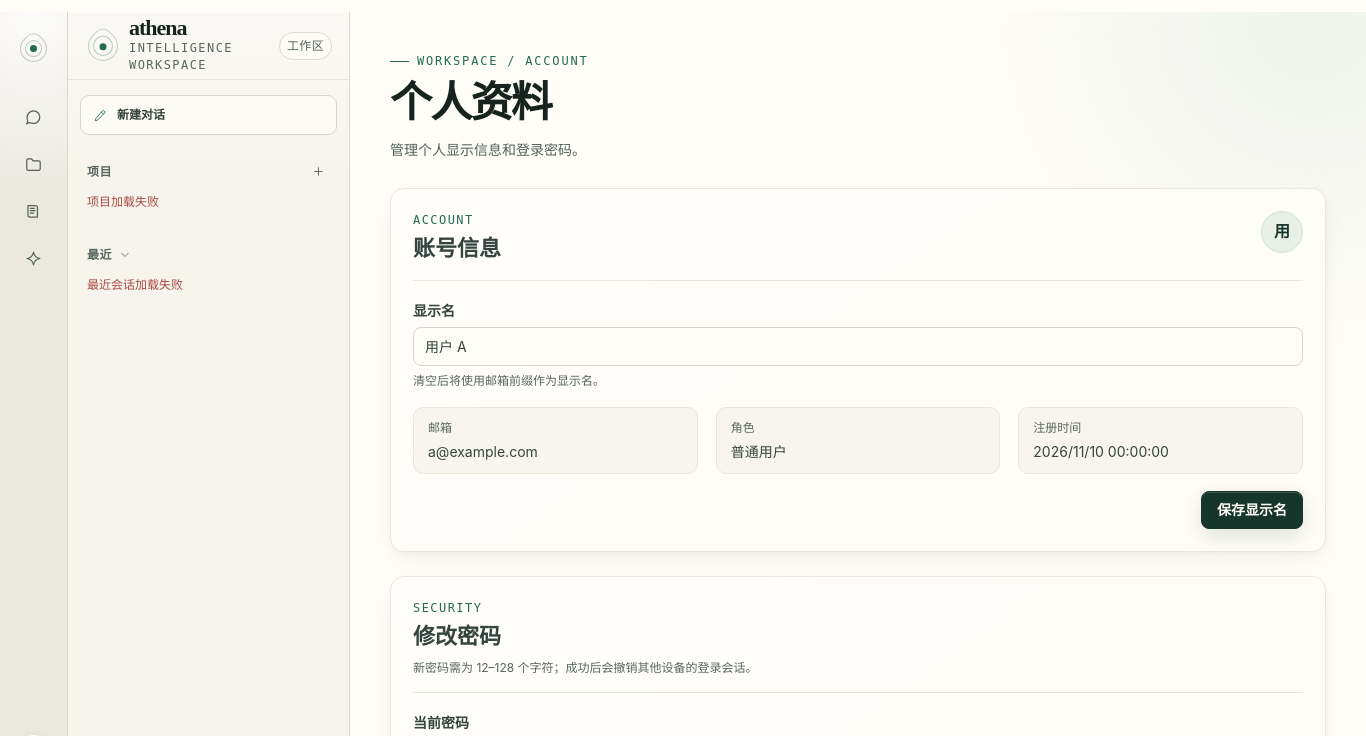
认证身份缓存隔离 › 离线暂停的 A 刷新在切换 B 后恢复联网也不会回写
This screenshot has width=1366, height=736.
Replace the text in the field labelled "显示名 清空后将使用邮箱前缀作为显示名。" with "A 已保存": (858, 346) [413,327,1303,366]
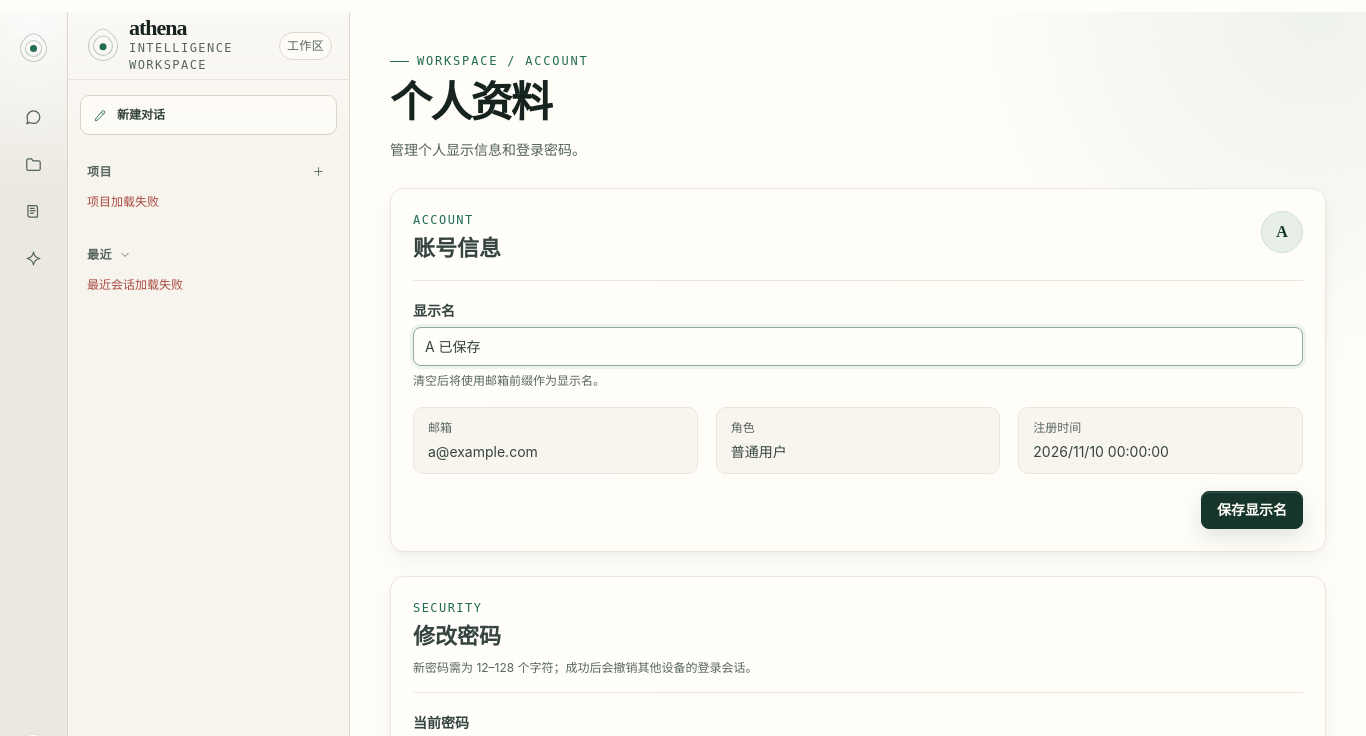
Click the button "保存显示名": click(1252, 510) [1201,491,1303,529]
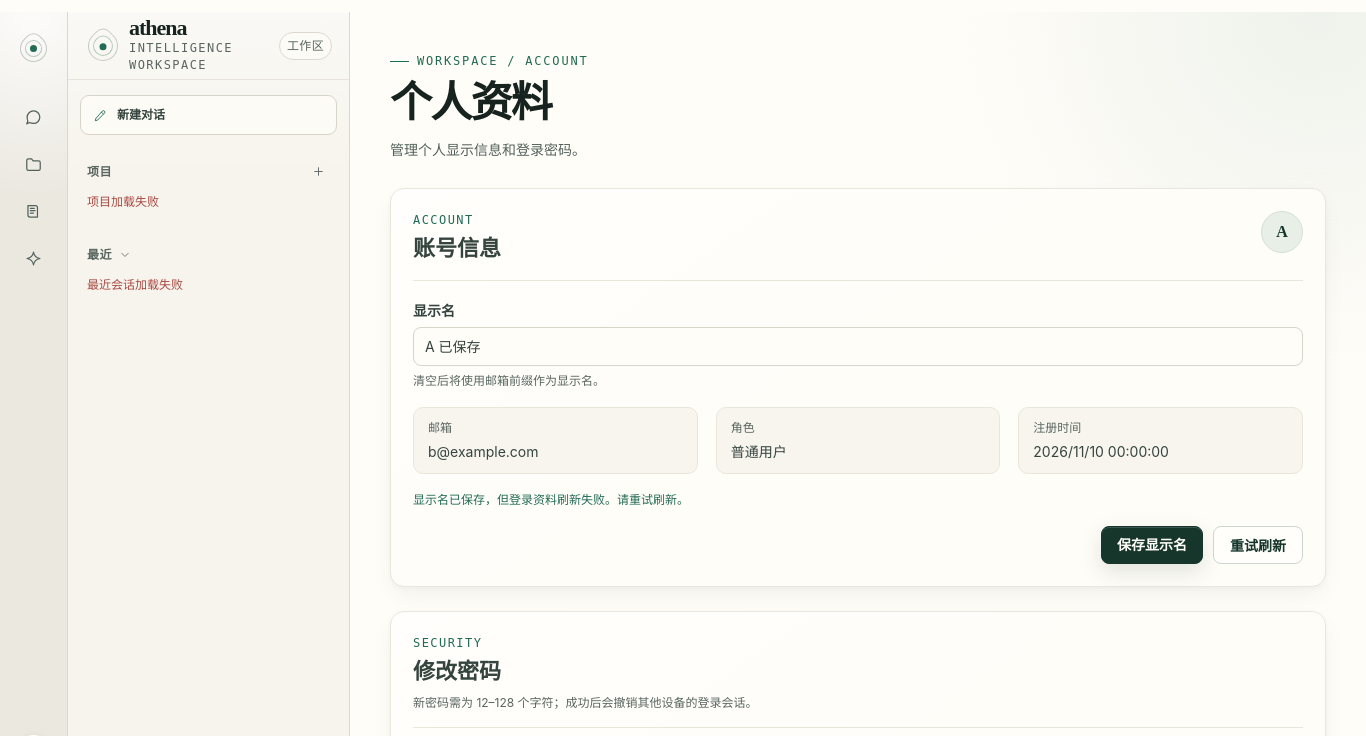
Now the text "显示名已保存，但登录资料刷新失败。请重试刷新。" is shown, box [413,492,689,507]
